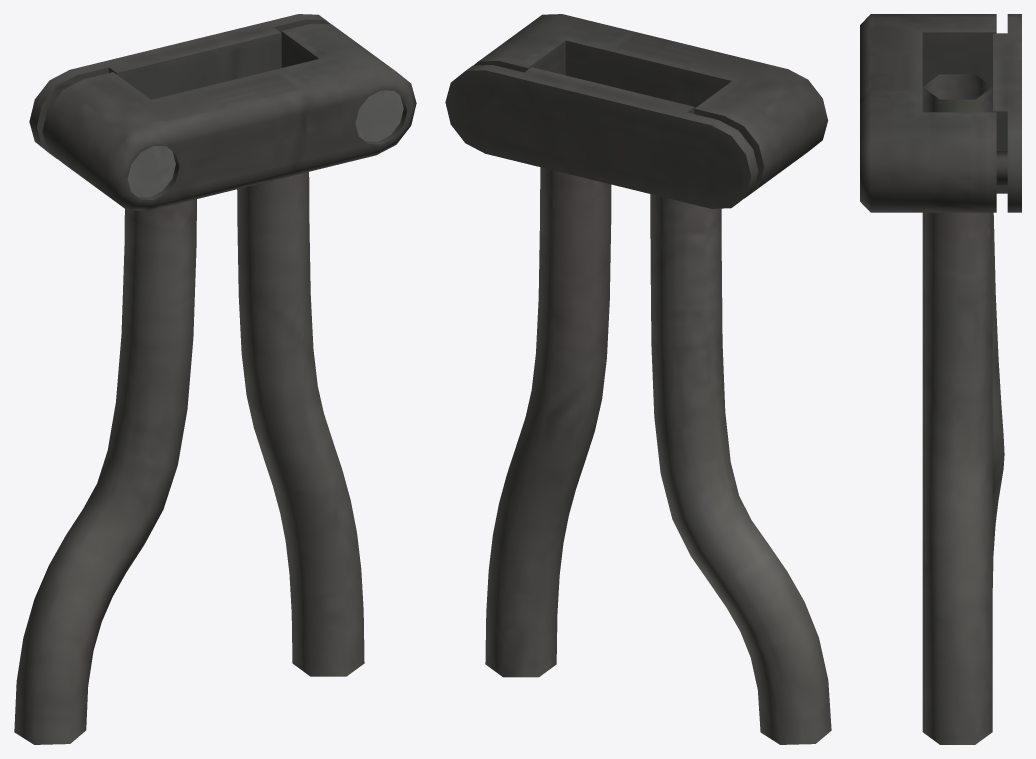
Rendered from cable_to_double_2.gltf.
The picture shows the model from 3 angles, left to right: view 1: azimuth 30°, elevation 25°; view 2: azimuth 150°, elevation 25°; view 3: azimuth 270°, elevation 25°; orthographic projection. The views are drawn at different scales.
Parts seen in each view (by area): view 1: cable_to_double_2; view 2: cable_to_double_2; view 3: cable_to_double_2.
Part boxes in pixels (x1,y1,x2,y2): cable_to_double_2: (14,14,416,744); cable_to_double_2: (445,14,831,744); cable_to_double_2: (860,14,1021,744).
Bounding box in the file's own units: 0.0628 × 0.1073 × 0.0259.
1 material, 1 textured.
